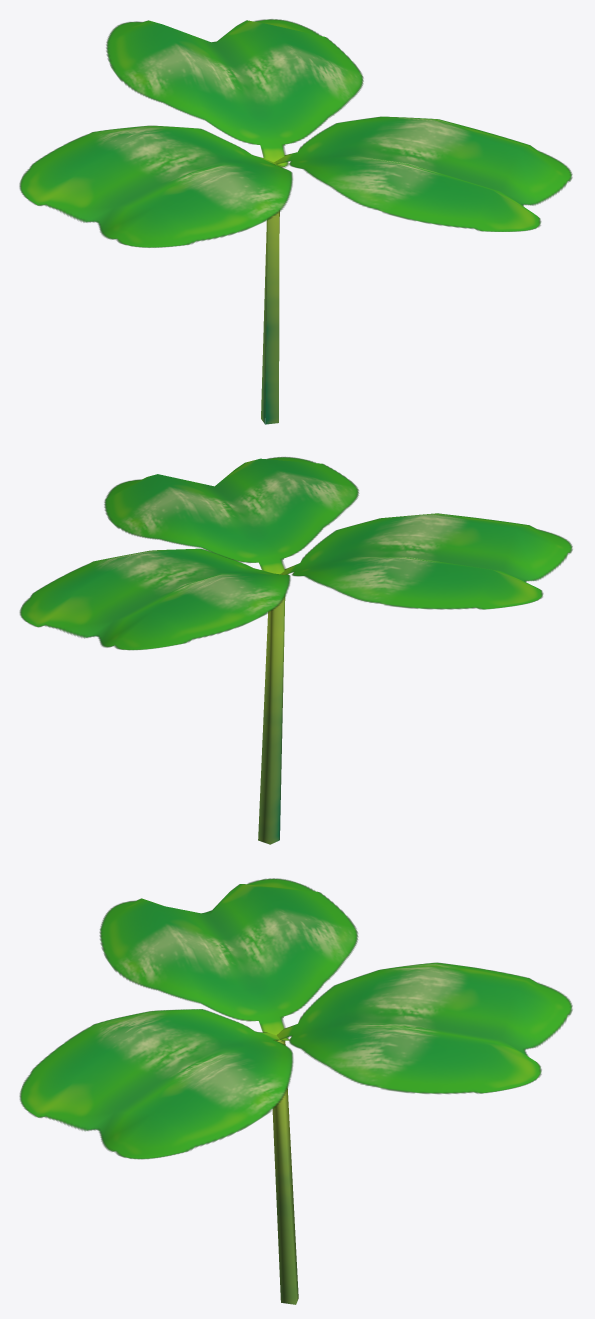
File: clover_3.glb
3 renders of one model, top to bottom at view 1: azimuth 30°, elevation 25°; view 2: azimuth 150°, elevation 25°; view 3: azimuth 270°, elevation 25°, orthographic.
Parts seen in each view (by area): view 1: clover_3; view 2: clover_3; view 3: clover_3.
Boxes of the visible parts, x1,y1,x2,y2 form: clover_3: [19, 19, 572, 424]; clover_3: [19, 457, 572, 844]; clover_3: [19, 878, 572, 1304].
Size of the model in its own units: 0.00622 by 0.00379 by 0.00614.
1 material, 1 textured.
